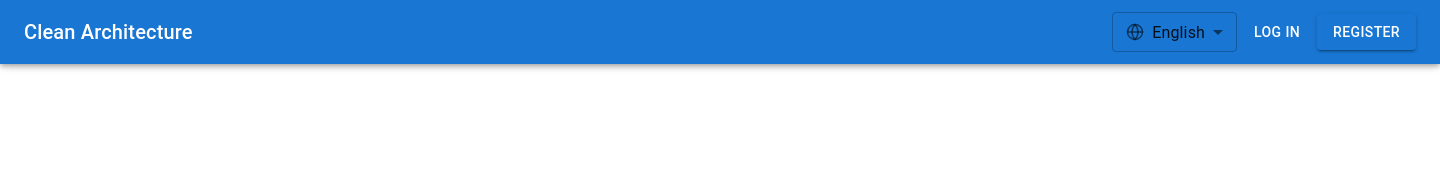
Test: Spanish language selection › changes language locally for a visitor without persisting an account preference
Check: the link "Log in" is shown, box [1254,24,1300,40]
Check: the element named "language" holds "en", box [1112,12,1237,52]
Click the dropdown named "Language" at (1179, 32), box [1152,22,1205,42]
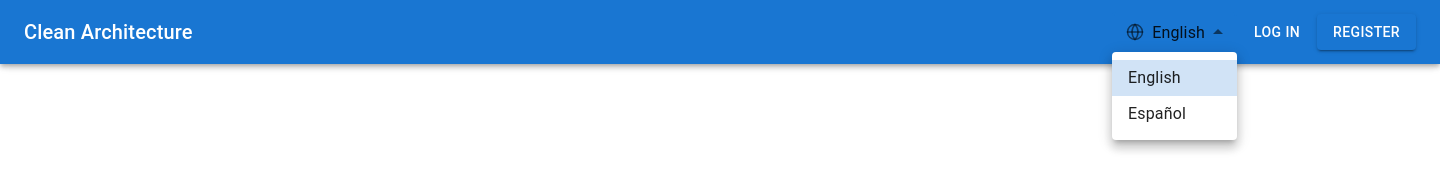
Check: the options read "English", "Español", in this order
Click the option "Español" at (1157, 114), box [1128,104,1186,123]
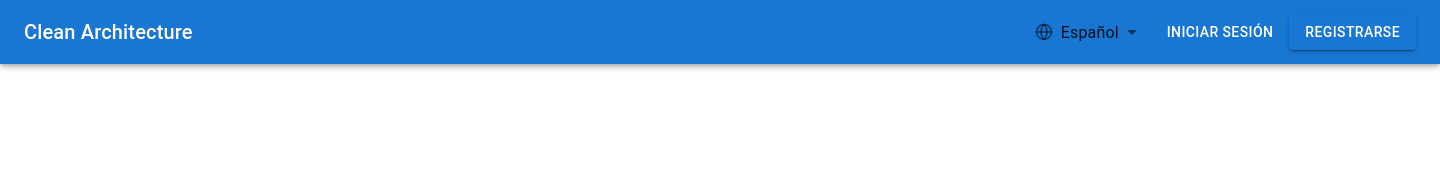
Check: the element named "language" holds "es", box [1021,12,1151,52]
Check: the dropdown named "Idioma" reads "Español", box [1061,22,1119,42]
